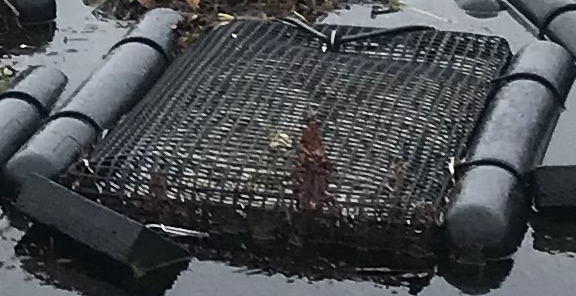bag: (6, 10, 571, 265)
